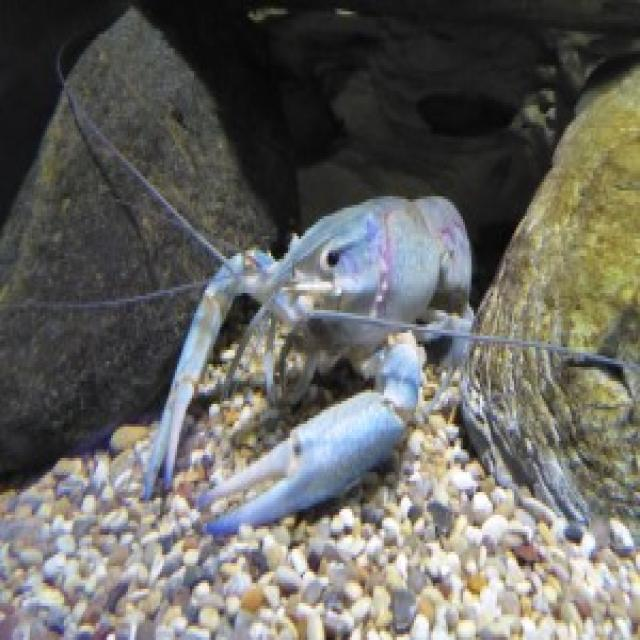lobsters: (82, 47, 592, 532)
